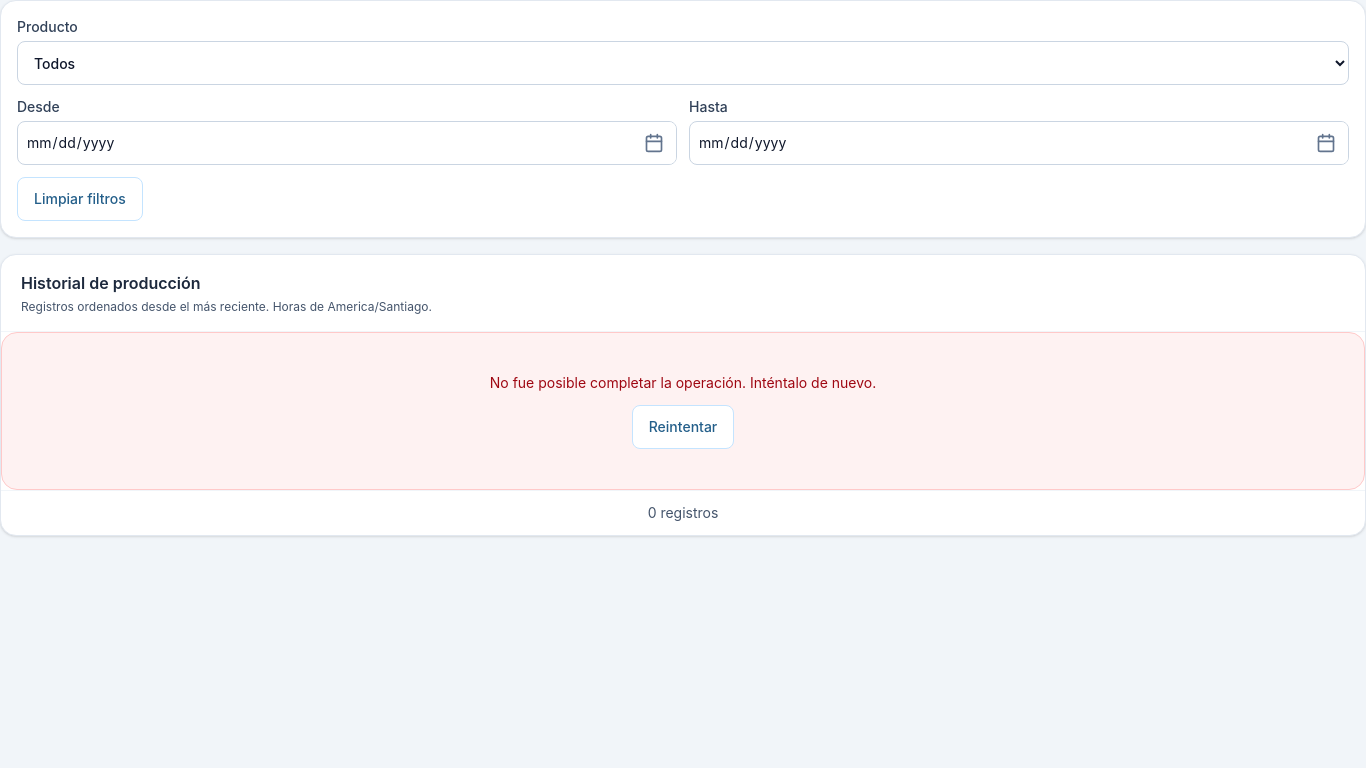
Test: A1-05 · un primer fallo de historial excluye el vacío y permite reintentar esa lectura
Expected: the message "No fue posible completar la operación. Inténtalo de nuevo. Reintentar" is shown, [1,332,1365,490]
Expected: the text "No hay registros" is not shown
Click the button "Reintentar". click: (683, 427)
box: [632,405,734,449]
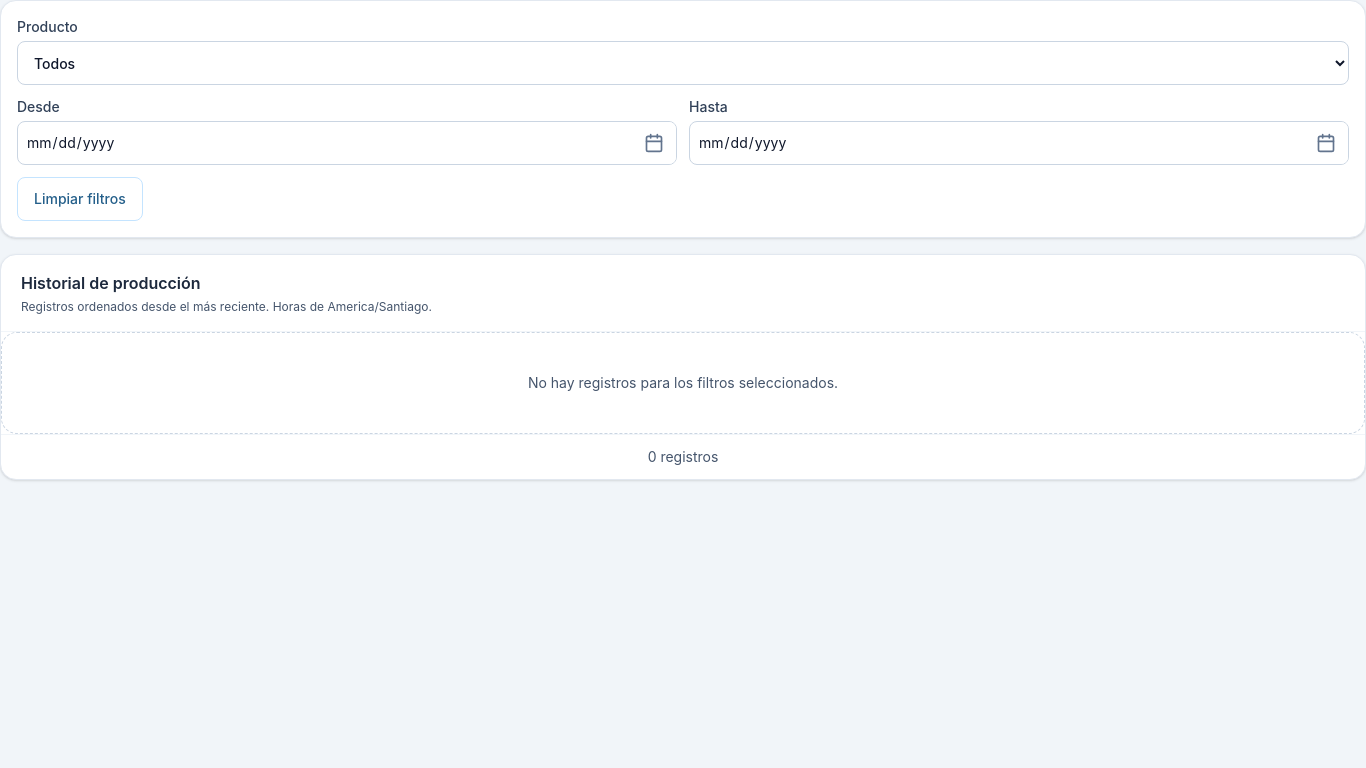
Now the text "No hay registros para los filtros seleccionados." is shown, box [528,373,838,393]
